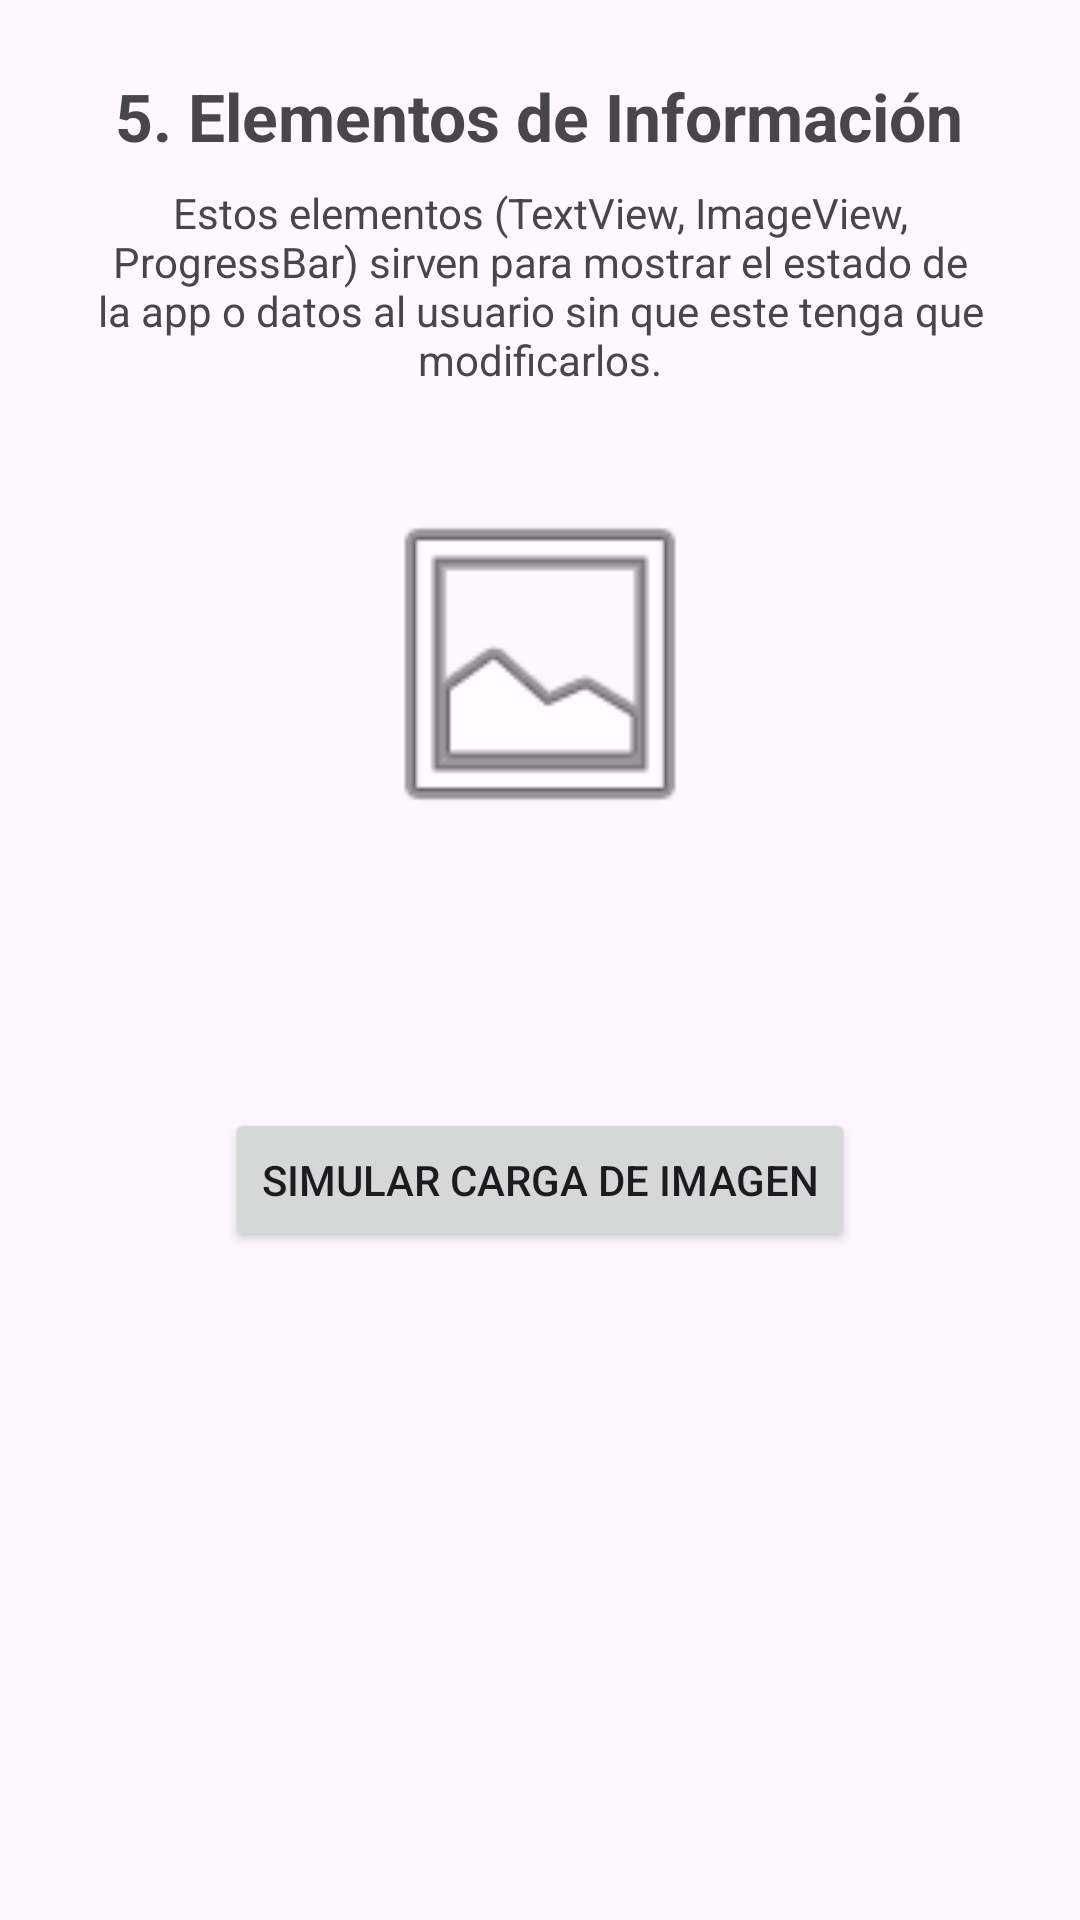

Where to tap for icons on this 1080 × 1920 app screen, as (x,y):
gallery: (540,664)
